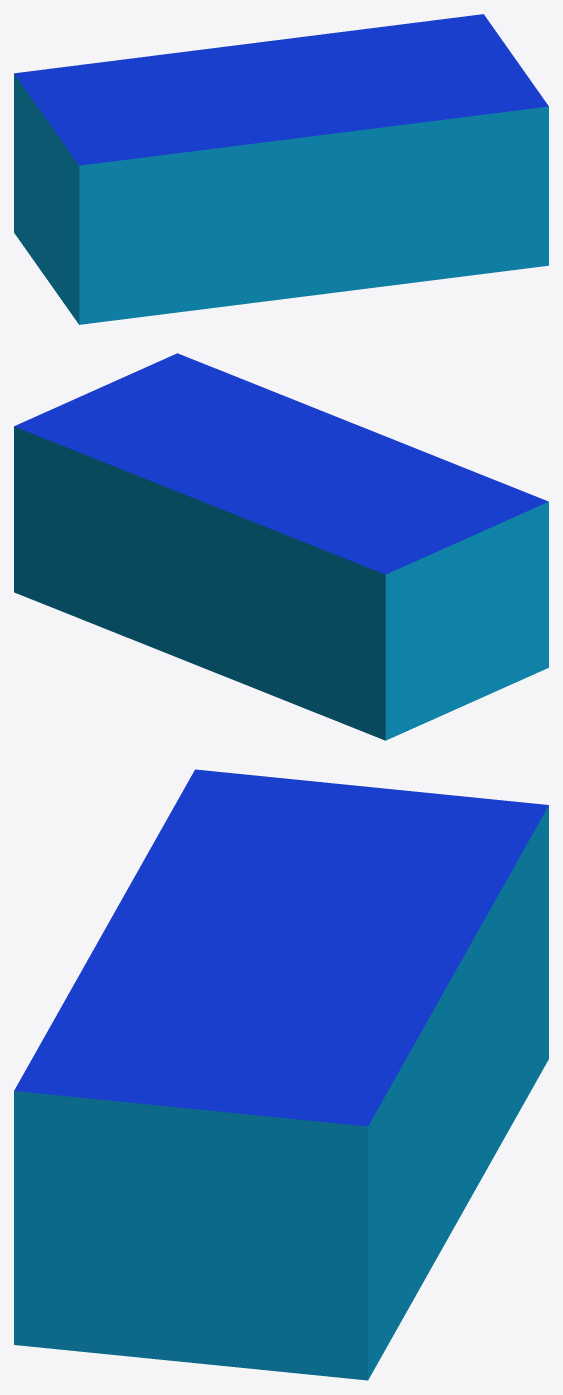
The model's file is map_21.osm_buildings.gltf.
3 views of the same model, one above another, from view 1: azimuth 30°, elevation 25°; view 2: azimuth 150°, elevation 25°; view 3: azimuth 270°, elevation 25° (orthographic). The views are drawn at different scales.
Visible parts, largest first — view 1: map_21.osm_buildings; view 2: map_21.osm_buildings; view 3: map_21.osm_buildings.
Part boxes in pixels (<box>): map_21.osm_buildings: <box>14,14,548,324</box>; map_21.osm_buildings: <box>14,353,548,740</box>; map_21.osm_buildings: <box>14,769,548,1380</box>.
Size of the model in its own units: 40.56 by 13.45 by 25.68.
